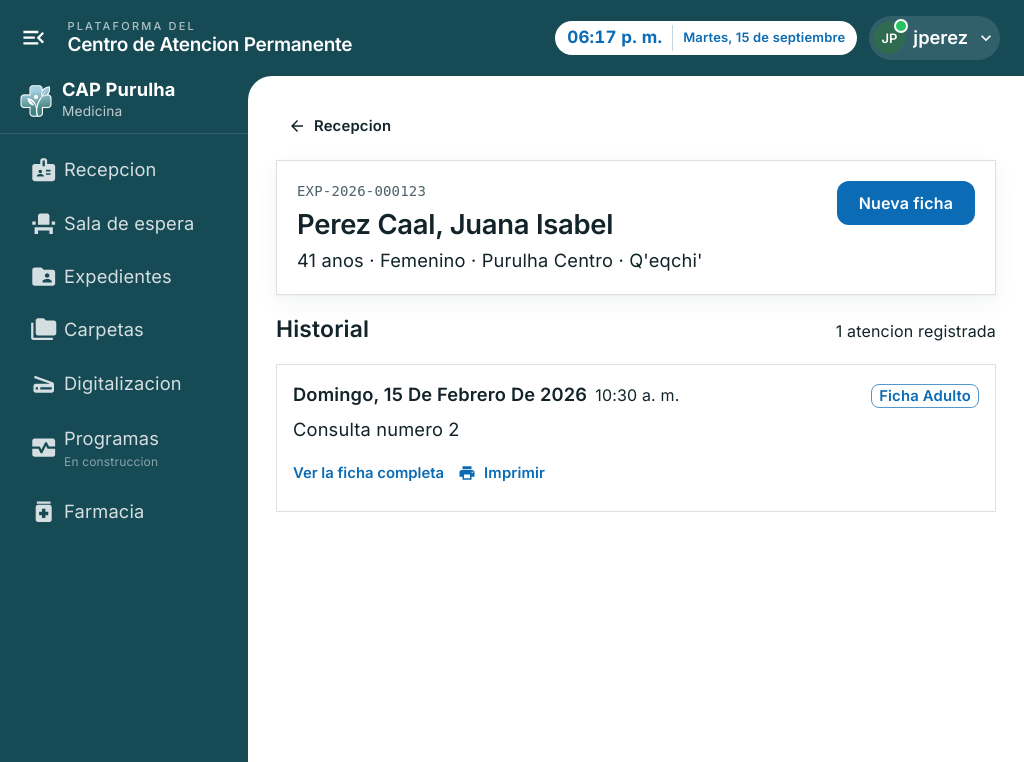
Scenario: el expediente de un paciente › la ficha completa se pide al abrirla, no antes
expect the text "Ficha Adulto" is shown: met, box [872,385,978,407]
Click the button "Ver la ficha completa".
click(369, 473)  # box [293,451,444,495]
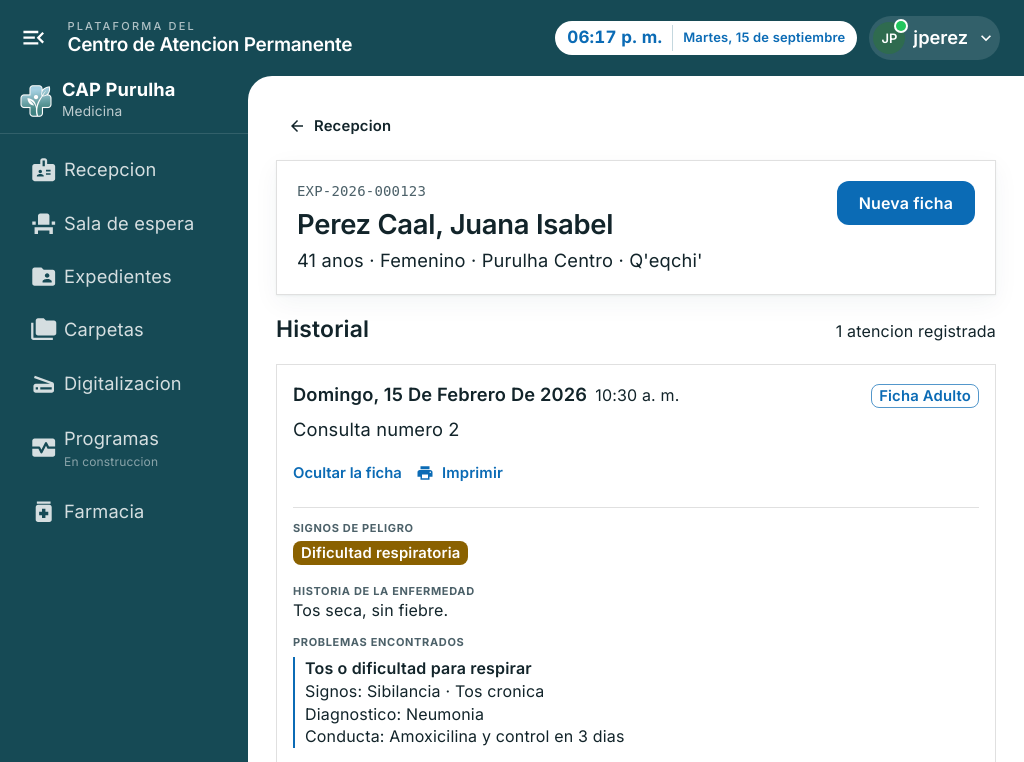
expect the text "Tos o dificultad para respirar" is shown: met, box [305,658,532,678]
